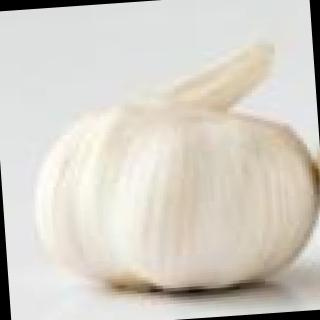Bawang Putih: (19, 38, 320, 307)
